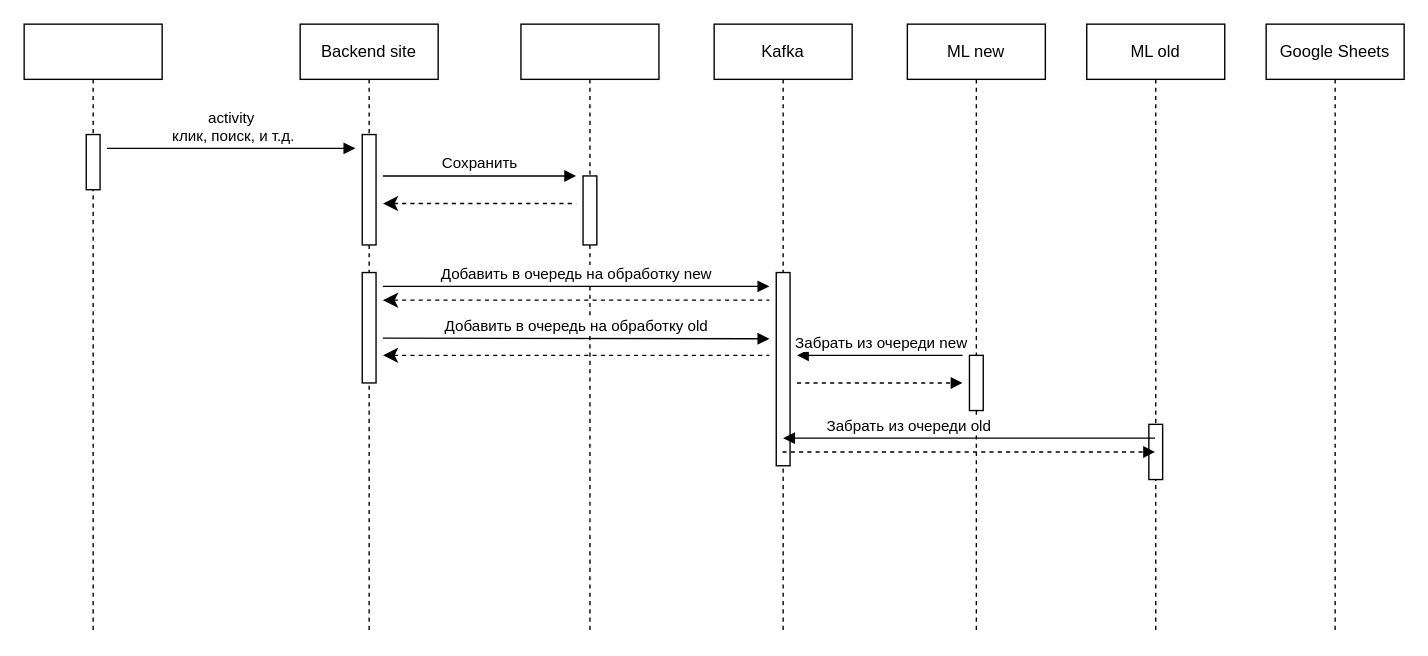
This 1428x656 diagram has some shape labels left out. The shapes that lost their labels are listed below. From the top down, each one's box as (x1, y1, x2, y2) in pixels, then its label:
(23, 23, 162, 631): Browser
(520, 23, 659, 631): БД site
